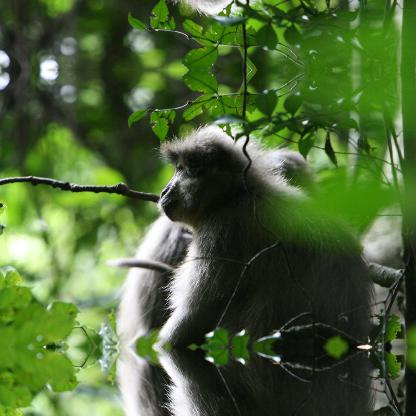Monkey: (118, 142, 326, 346), (118, 346, 327, 415)
